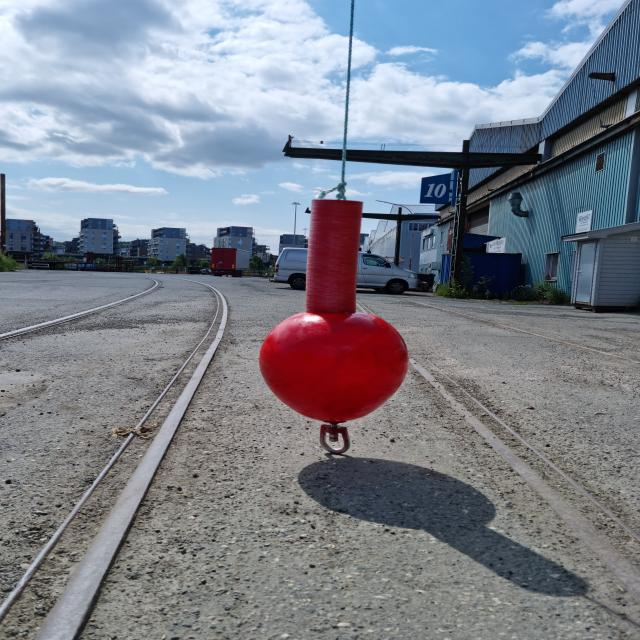red: (259, 200, 412, 422)
